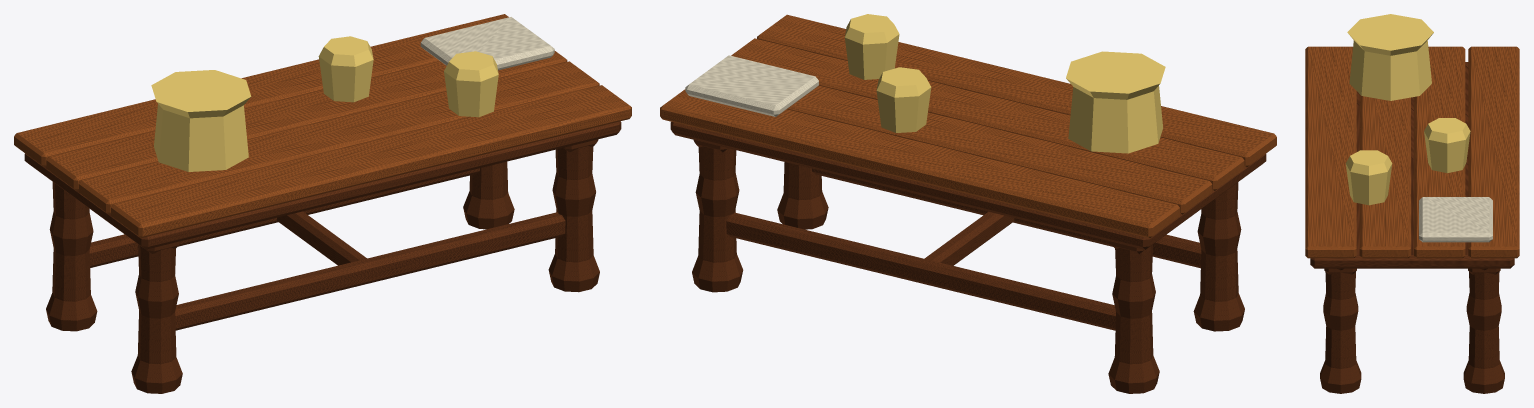
The model's file is fantasy-mmo-city-and-townsfolk-tavern-table-2f69f453__32753.glb.
3 renders of one model, left to right at view 1: azimuth 30°, elevation 25°; view 2: azimuth 150°, elevation 25°; view 3: azimuth 270°, elevation 25°, orthographic. The views are drawn at different scales.
Parts seen in each view (by area): view 1: tavern-table; view 2: tavern-table; view 3: tavern-table.
Part boxes in pixels (x1,y1,x2,y2): tavern-table: [14, 14, 631, 393]; tavern-table: [660, 14, 1276, 393]; tavern-table: [1305, 14, 1519, 393].
Bounding box in the file's own units: 2.2 × 1.08 × 0.9849.
5 materials, 3 textured.
